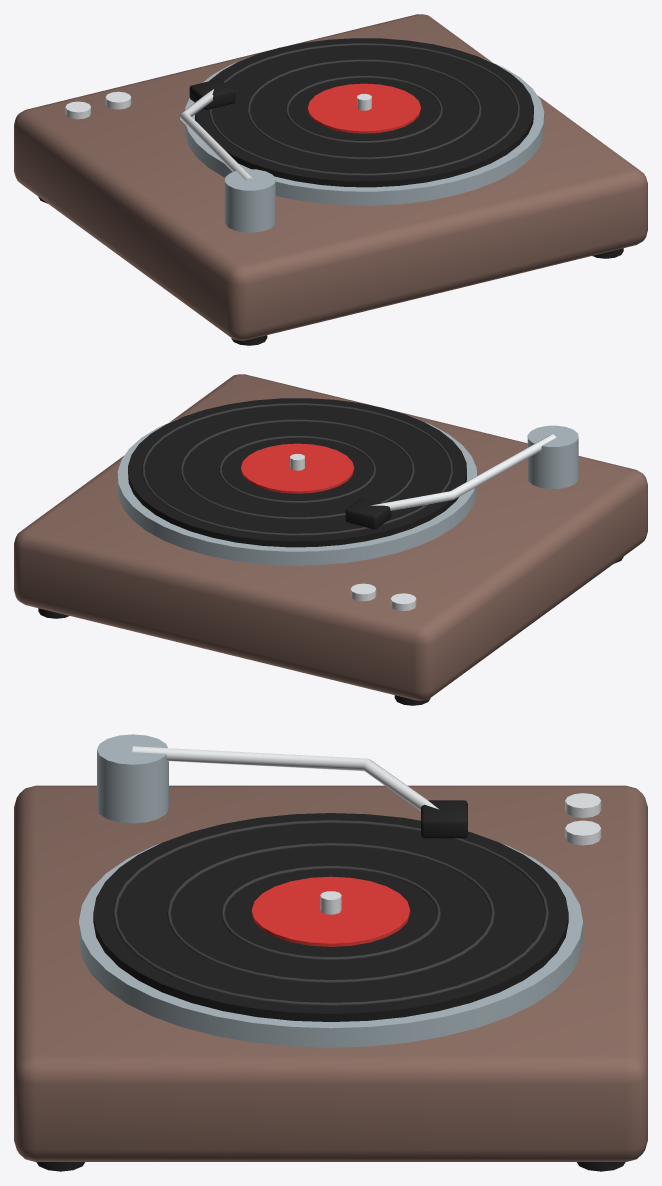
Rendered from turntable.fbx.
The picture shows the model from 3 angles, top to bottom: view 1: azimuth 30°, elevation 25°; view 2: azimuth 150°, elevation 25°; view 3: azimuth 270°, elevation 25°; orthographic projection. The views are drawn at different scales.
Parts seen in each view (by area): view 1: Sam's Turntable; view 2: Sam's Turntable; view 3: Sam's Turntable.
Part boxes in pixels (box(x1,y1,x2,y2)): Sam's Turntable: box(14, 14, 647, 345); Sam's Turntable: box(14, 374, 647, 705); Sam's Turntable: box(14, 734, 647, 1171).
Bounding box in the file's own units: 1.88 × 0.58 × 1.76.
